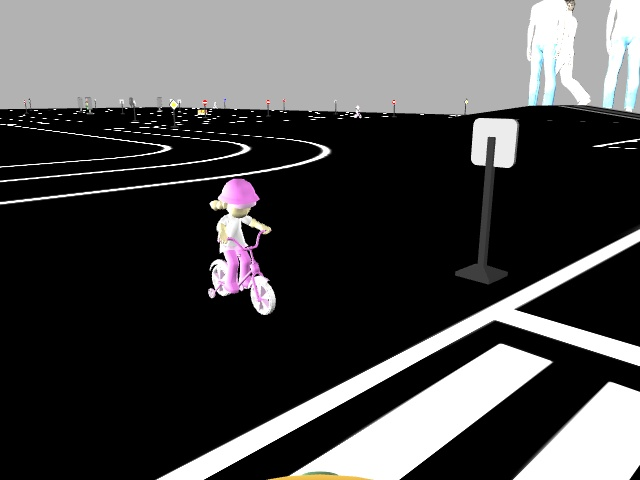Pedestrian: (202, 177, 287, 316)
